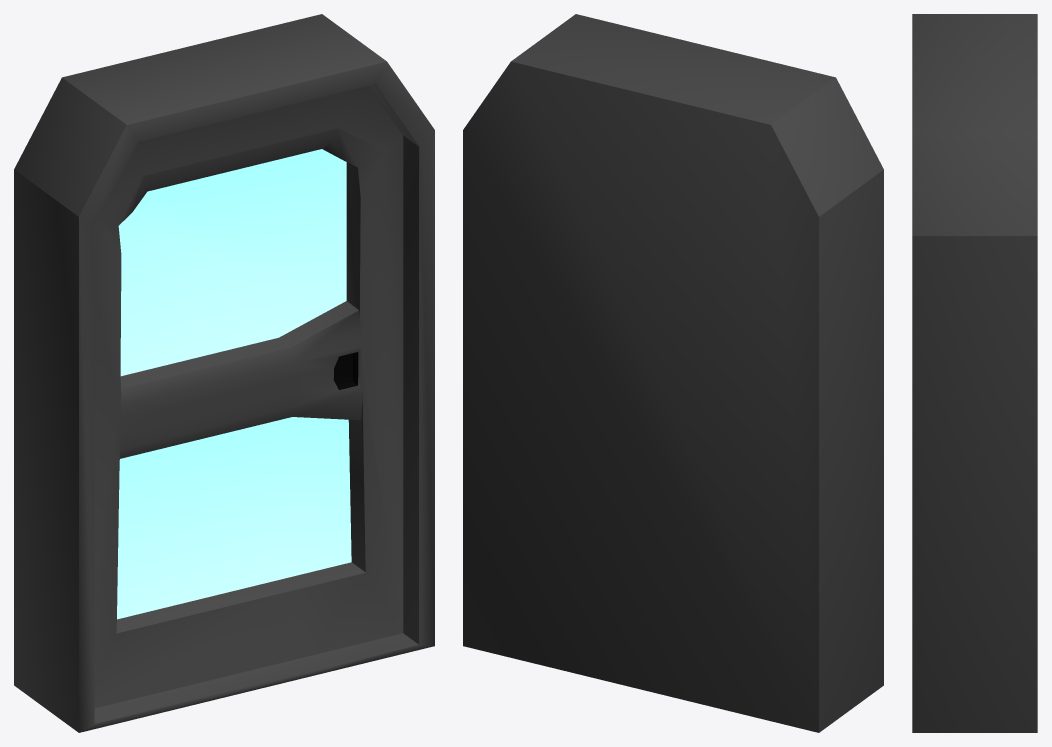
Rendered from door.fbx.
3 views of the same model, side by side, from view 1: azimuth 30°, elevation 25°; view 2: azimuth 150°, elevation 25°; view 3: azimuth 270°, elevation 25° (orthographic). The views are drawn at different scales.
Visible parts, largest first — view 1: Cube; view 2: Cube; view 3: Cube.
Part boxes in pixels (x1,y1,x2,y2): Cube: [14, 14, 434, 732]; Cube: [463, 14, 883, 732]; Cube: [912, 14, 1037, 732].
Bounding box in the file's own units: 6.78 × 10.85 × 2.14.
